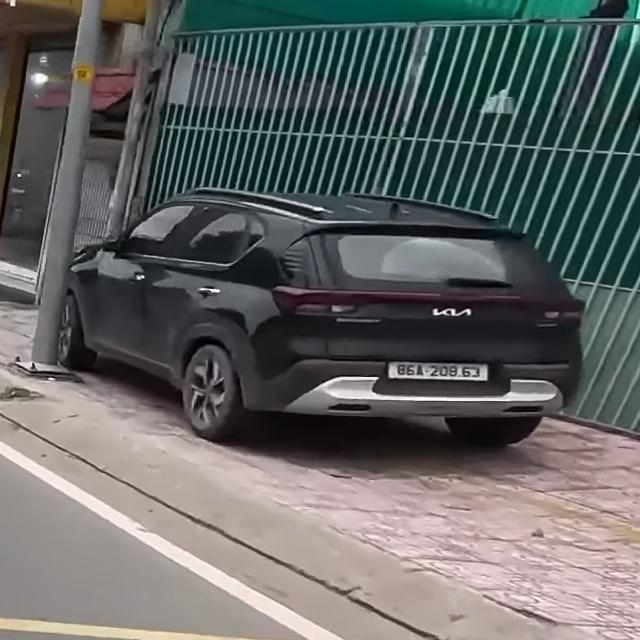car: (41, 176, 592, 459)
plate: (378, 350, 495, 394)
